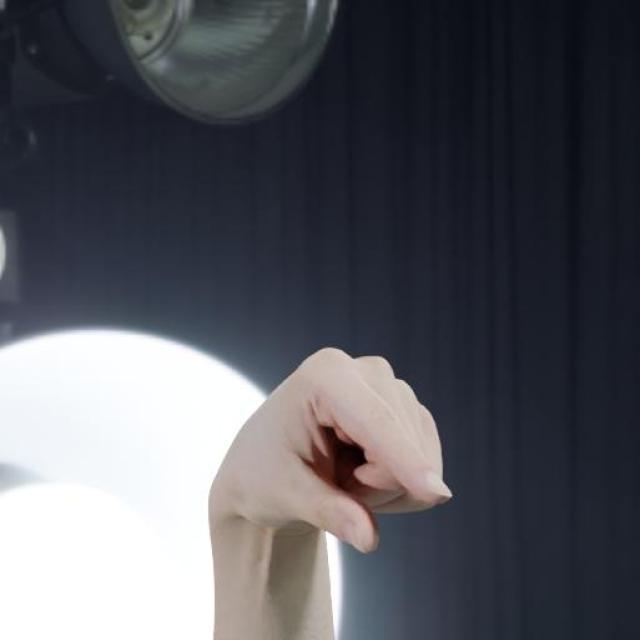Q: (207, 341, 458, 559)
